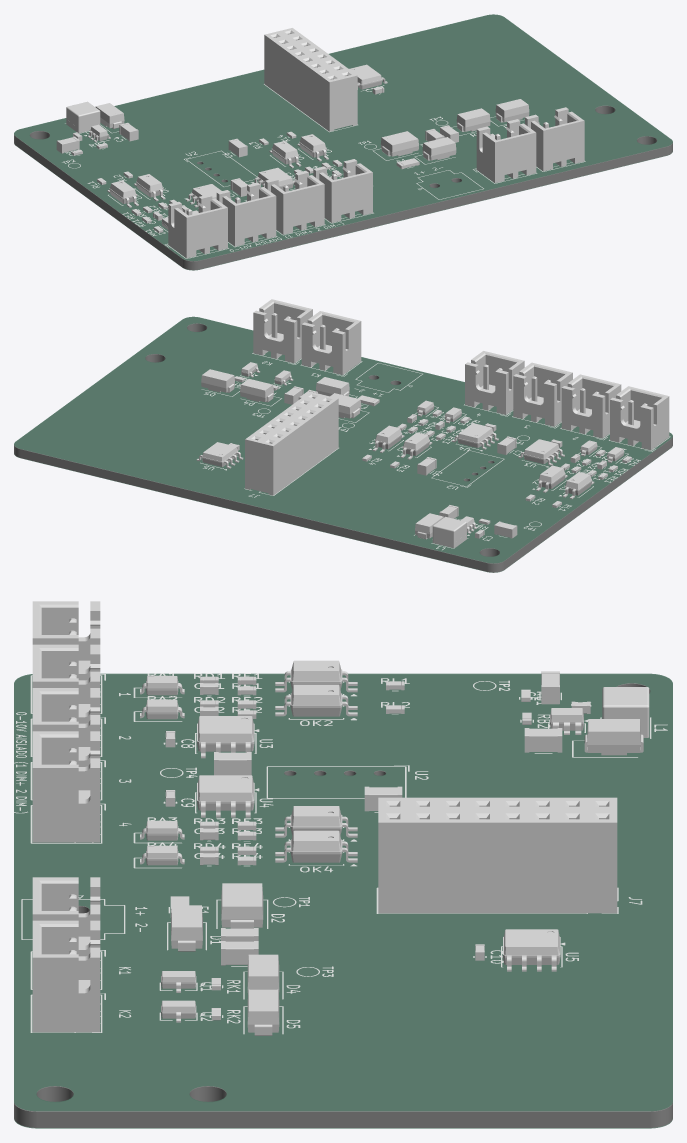
Rendered from AP1_Industrial.glb.
3 renders of one model, top to bottom at view 1: azimuth 30°, elevation 25°; view 2: azimuth 150°, elevation 25°; view 3: azimuth 270°, elevation 25°, orthographic. The views are drawn at different scales.
Visible parts, largest first — view 1: =>[0:1:1:20], =>[0:1:1:18], J7, J2, J5, J9, J6, J8, J4, =>[0:1:1:16], L1, D2 (+12 smaller); view 2: =>[0:1:1:20], =>[0:1:1:18], J7, J2, J5, =>[0:1:1:16], J6, J9, J4, J8, L1, U5 (+12 smaller); view 3: =>[0:1:1:18], =>[0:1:1:20], J7, =>[0:1:1:16], J4, J9, J6, J5, J2, J8, U5, U4 (+16 smaller).
Boxes of the visible parts, box(x1,y1,x2,y2) form: =>[0:1:1:20]: box(14, 15, 672, 270); =>[0:1:1:18]: box(14, 14, 672, 261); J7: box(264, 28, 357, 131); J2: box(476, 119, 536, 182); J5: box(168, 194, 227, 258); J9: box(313, 159, 372, 222); J6: box(216, 182, 276, 246); J8: box(265, 170, 324, 234); J4: box(525, 107, 584, 171); =>[0:1:1:16]: box(62, 84, 585, 258); L1: box(66, 101, 100, 132); D2: box(380, 131, 418, 156); =>[0:1:1:20]: box(14, 317, 672, 572); =>[0:1:1:18]: box(14, 316, 672, 563); J7: box(245, 391, 338, 495); J2: box(301, 311, 361, 374); J5: box(610, 386, 669, 450); =>[0:1:1:16]: box(200, 353, 670, 550); J6: box(561, 374, 621, 438); J9: box(465, 351, 524, 414); J4: box(253, 299, 312, 363); J8: box(513, 362, 572, 426); L1: box(432, 516, 466, 547); U5: box(196, 442, 243, 468); =>[0:1:1:18]: box(14, 673, 672, 1111); =>[0:1:1:20]: box(14, 675, 672, 1127); J7: box(378, 797, 617, 913); =>[0:1:1:16]: box(14, 673, 667, 1034); J4: box(32, 920, 100, 1032); J9: box(32, 731, 100, 842); J6: box(32, 644, 100, 723); J5: box(32, 601, 100, 680); J2: box(32, 877, 100, 956); J8: box(32, 688, 100, 766); U5: box(503, 929, 560, 971); U4: box(197, 775, 254, 817).
Size of the model in its own units: 0.088 by 0.0119 by 0.056.
